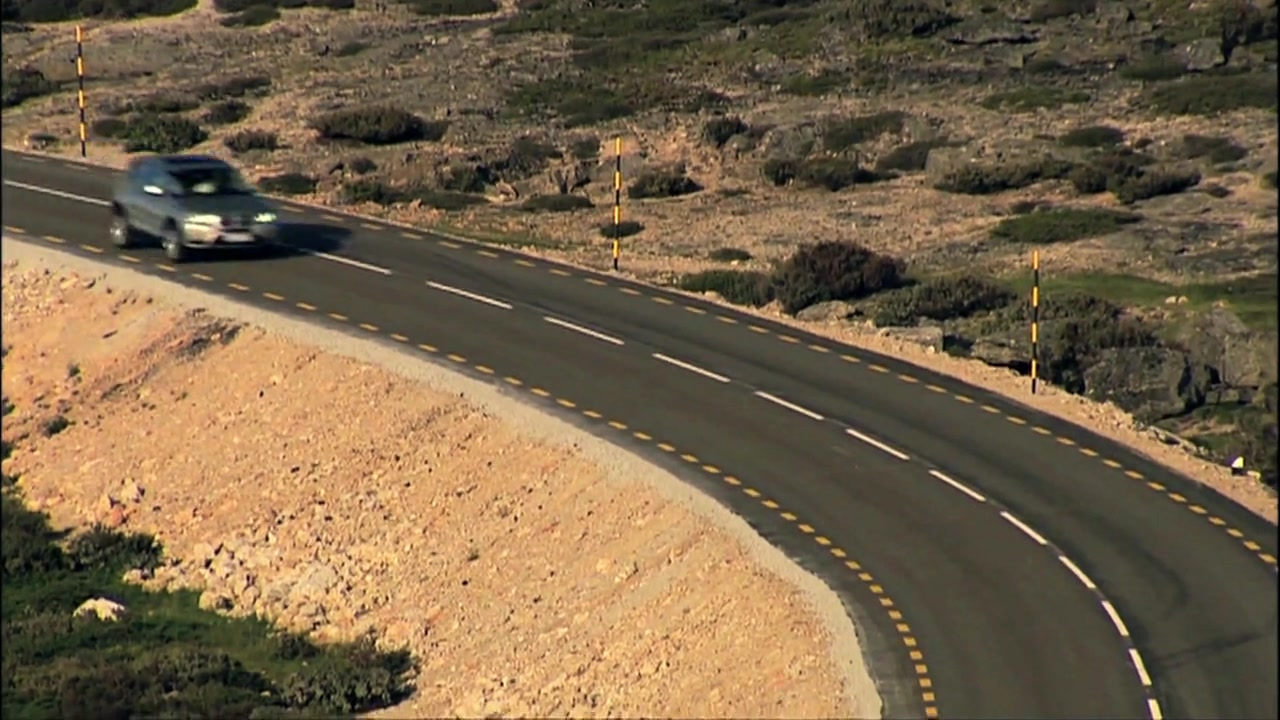car: (107, 156, 282, 266)
